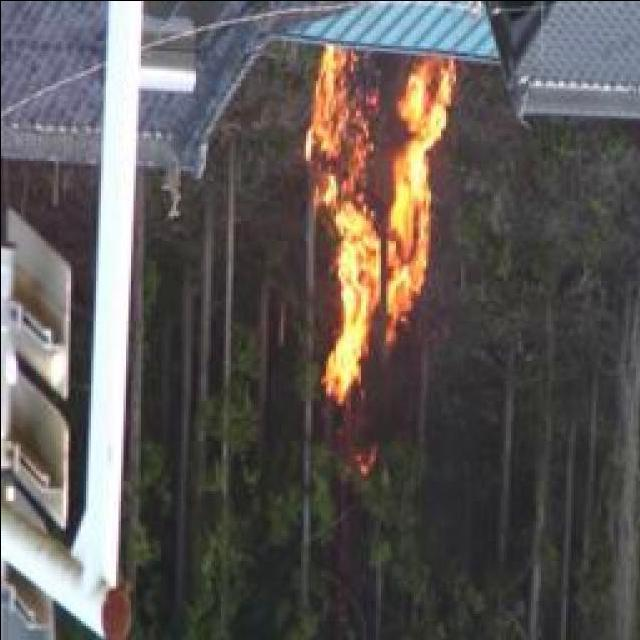Fire: (300, 56, 456, 387)
